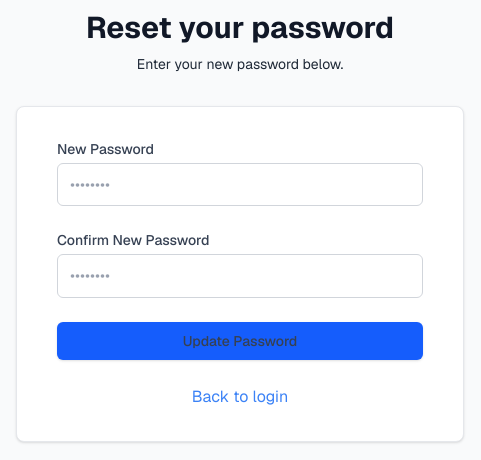
Test: Reset Password Flow End-to-End › auto-redirects to login page after 3 seconds on success
The image size is (481, 460).
Type "newPassword123" into the password field labelled "New Password". click: (240, 184)
box: [57, 163, 423, 206]
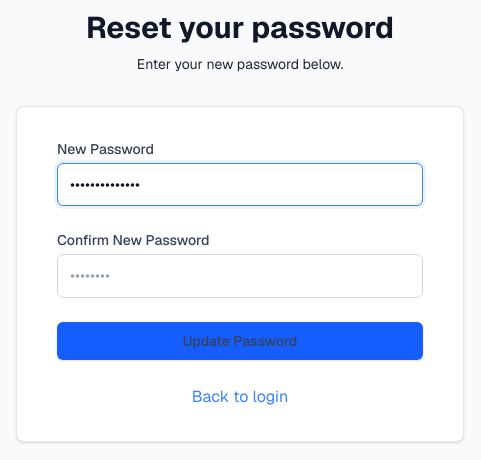
Type "newPassword123" into the password field labelled "Confirm New Password". click: (240, 276)
box: [57, 254, 423, 298]
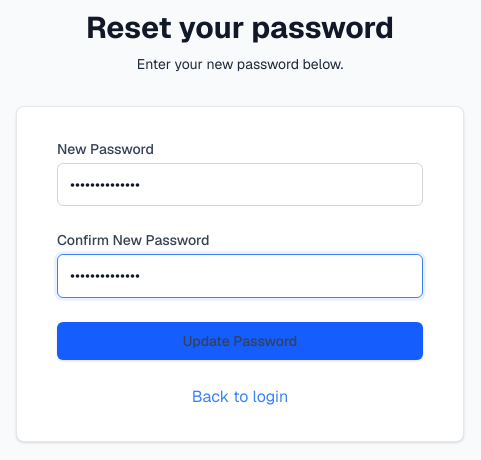
Click the button "Update Password". click: (240, 341)
box: [57, 322, 423, 360]
Wait 3000 ms
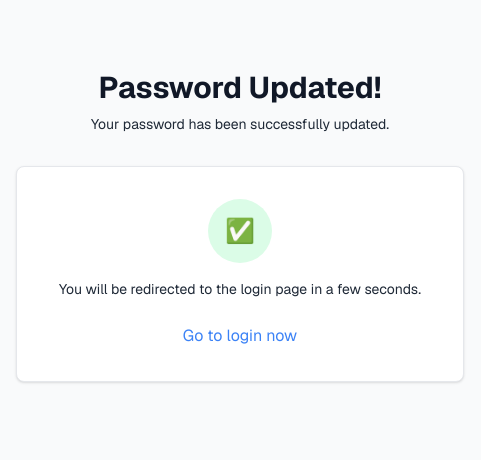
Expected: the heading "Password Updated!" is shown, [98, 68, 381, 107]
